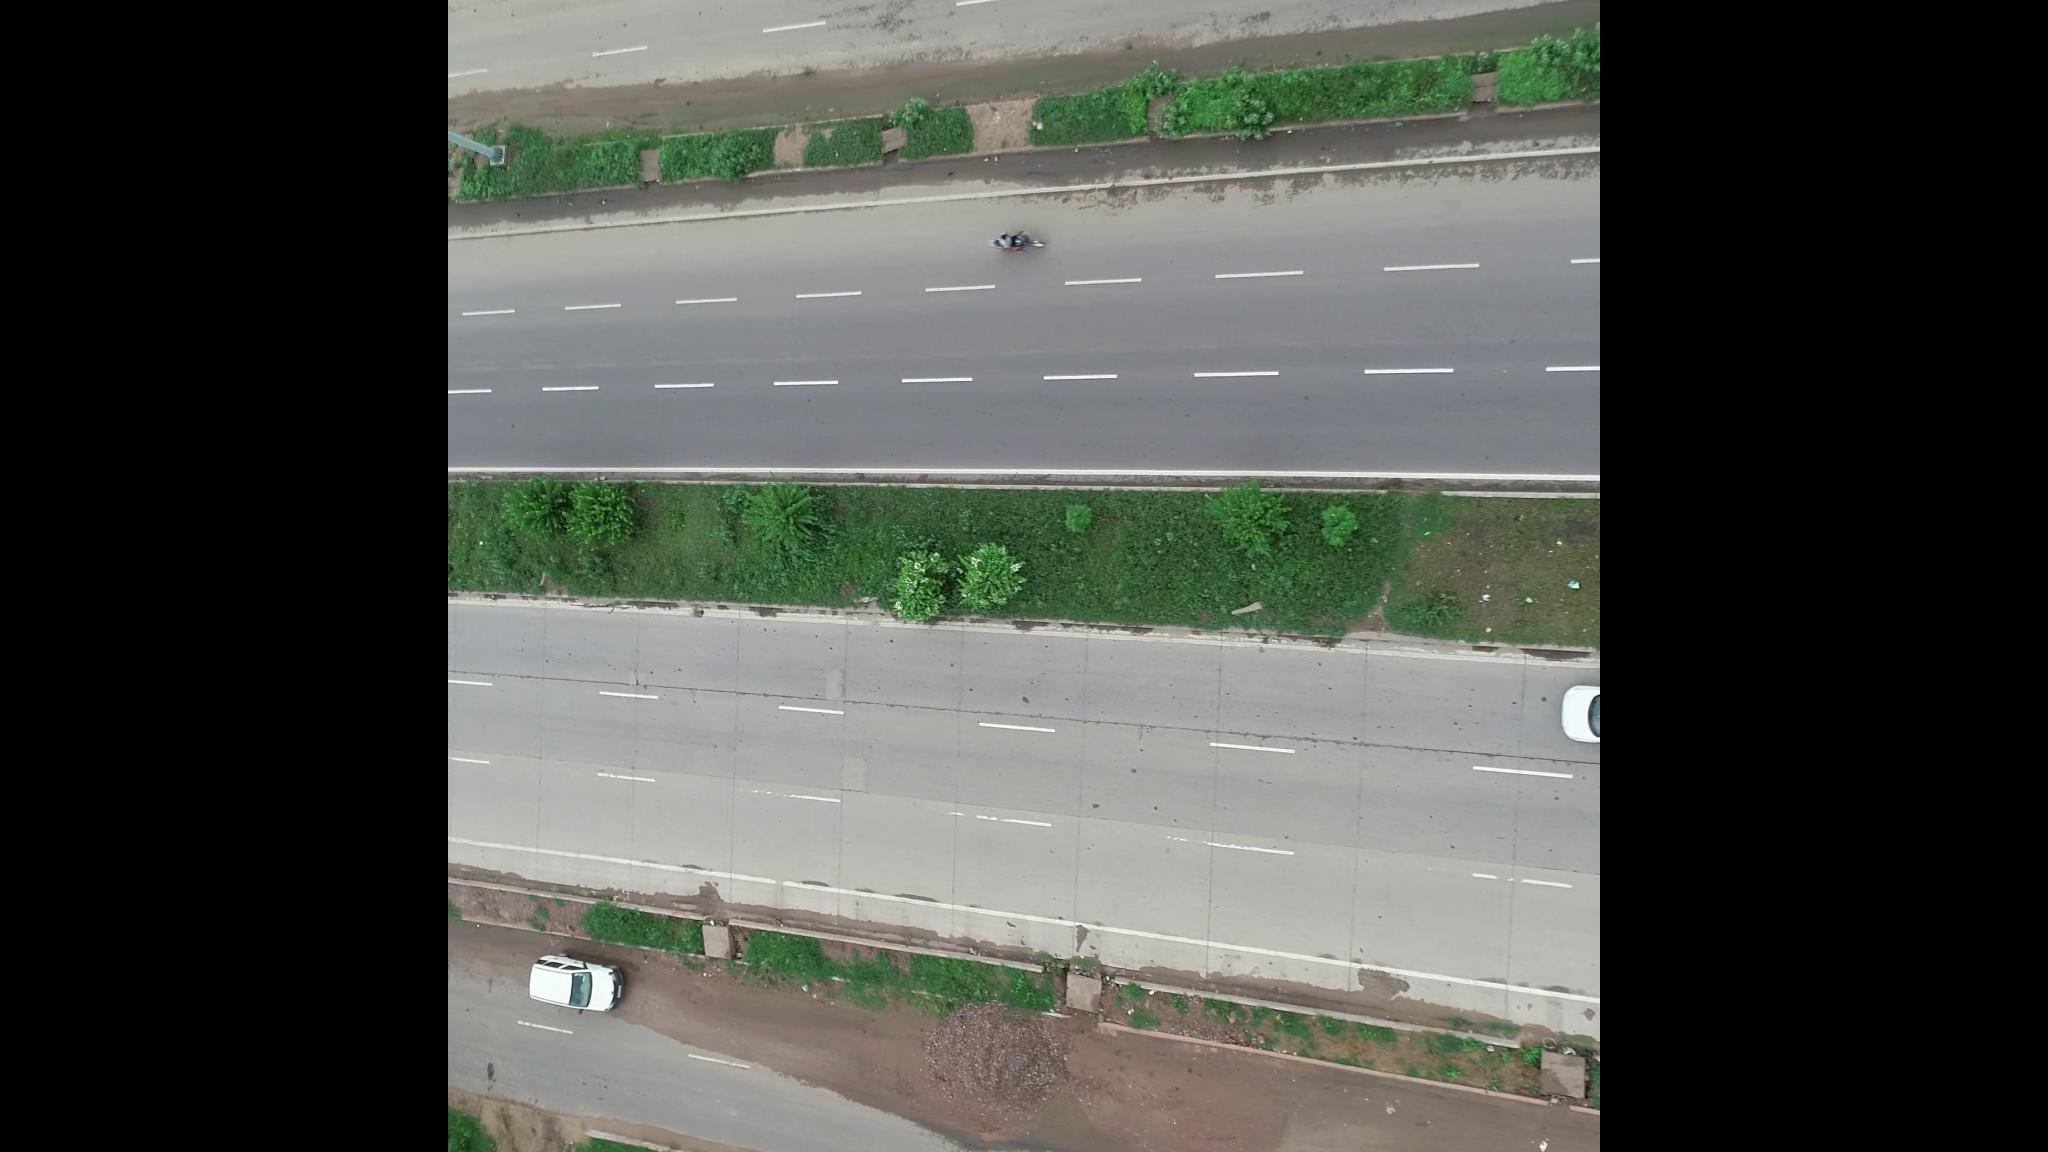Muddy_road: (921, 1025, 1272, 1152), (681, 985, 916, 1134), (1301, 1092, 1589, 1152)
